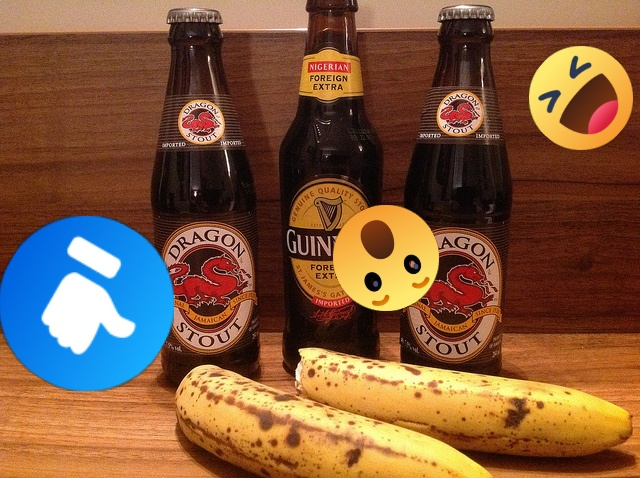haha: (529, 46, 633, 150)
like: (0, 216, 174, 391)
wow: (333, 205, 439, 311)
